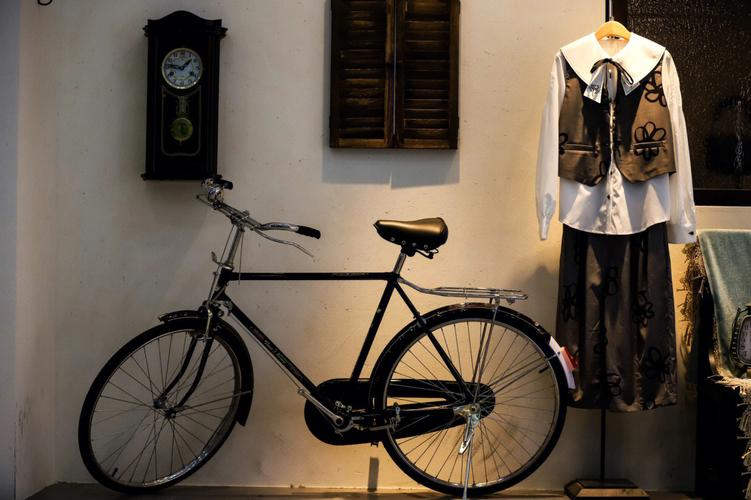单车: (74, 158, 604, 500)
